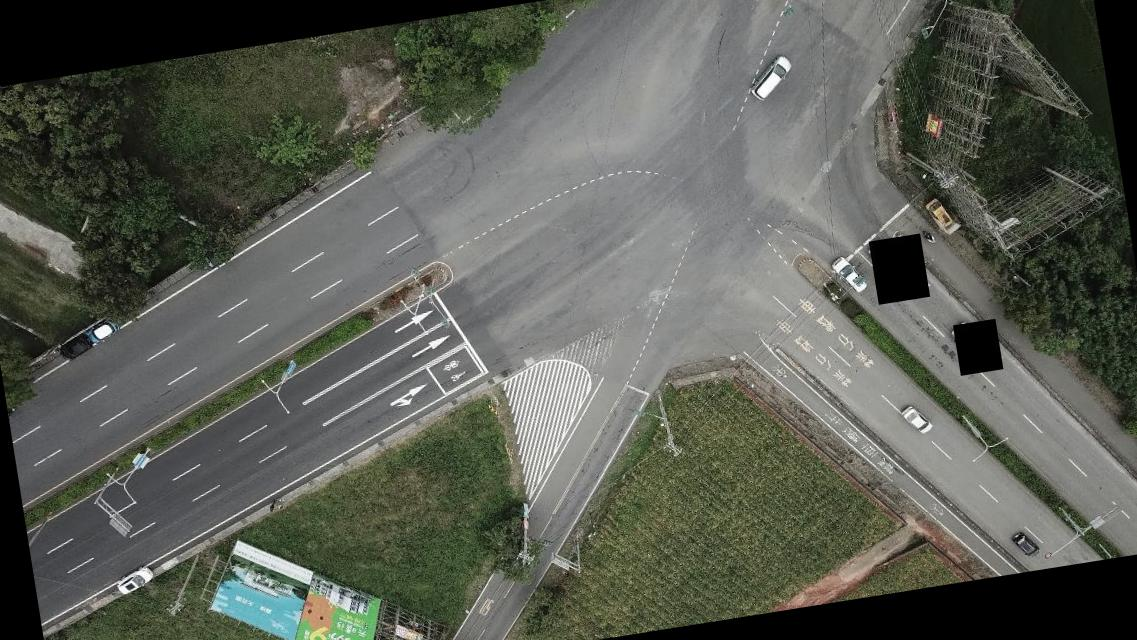vehicle: (746, 54, 798, 102), (830, 252, 866, 296), (113, 565, 155, 595), (900, 402, 934, 436), (57, 330, 92, 361), (86, 316, 120, 346), (927, 197, 954, 232), (1013, 529, 1042, 561)
